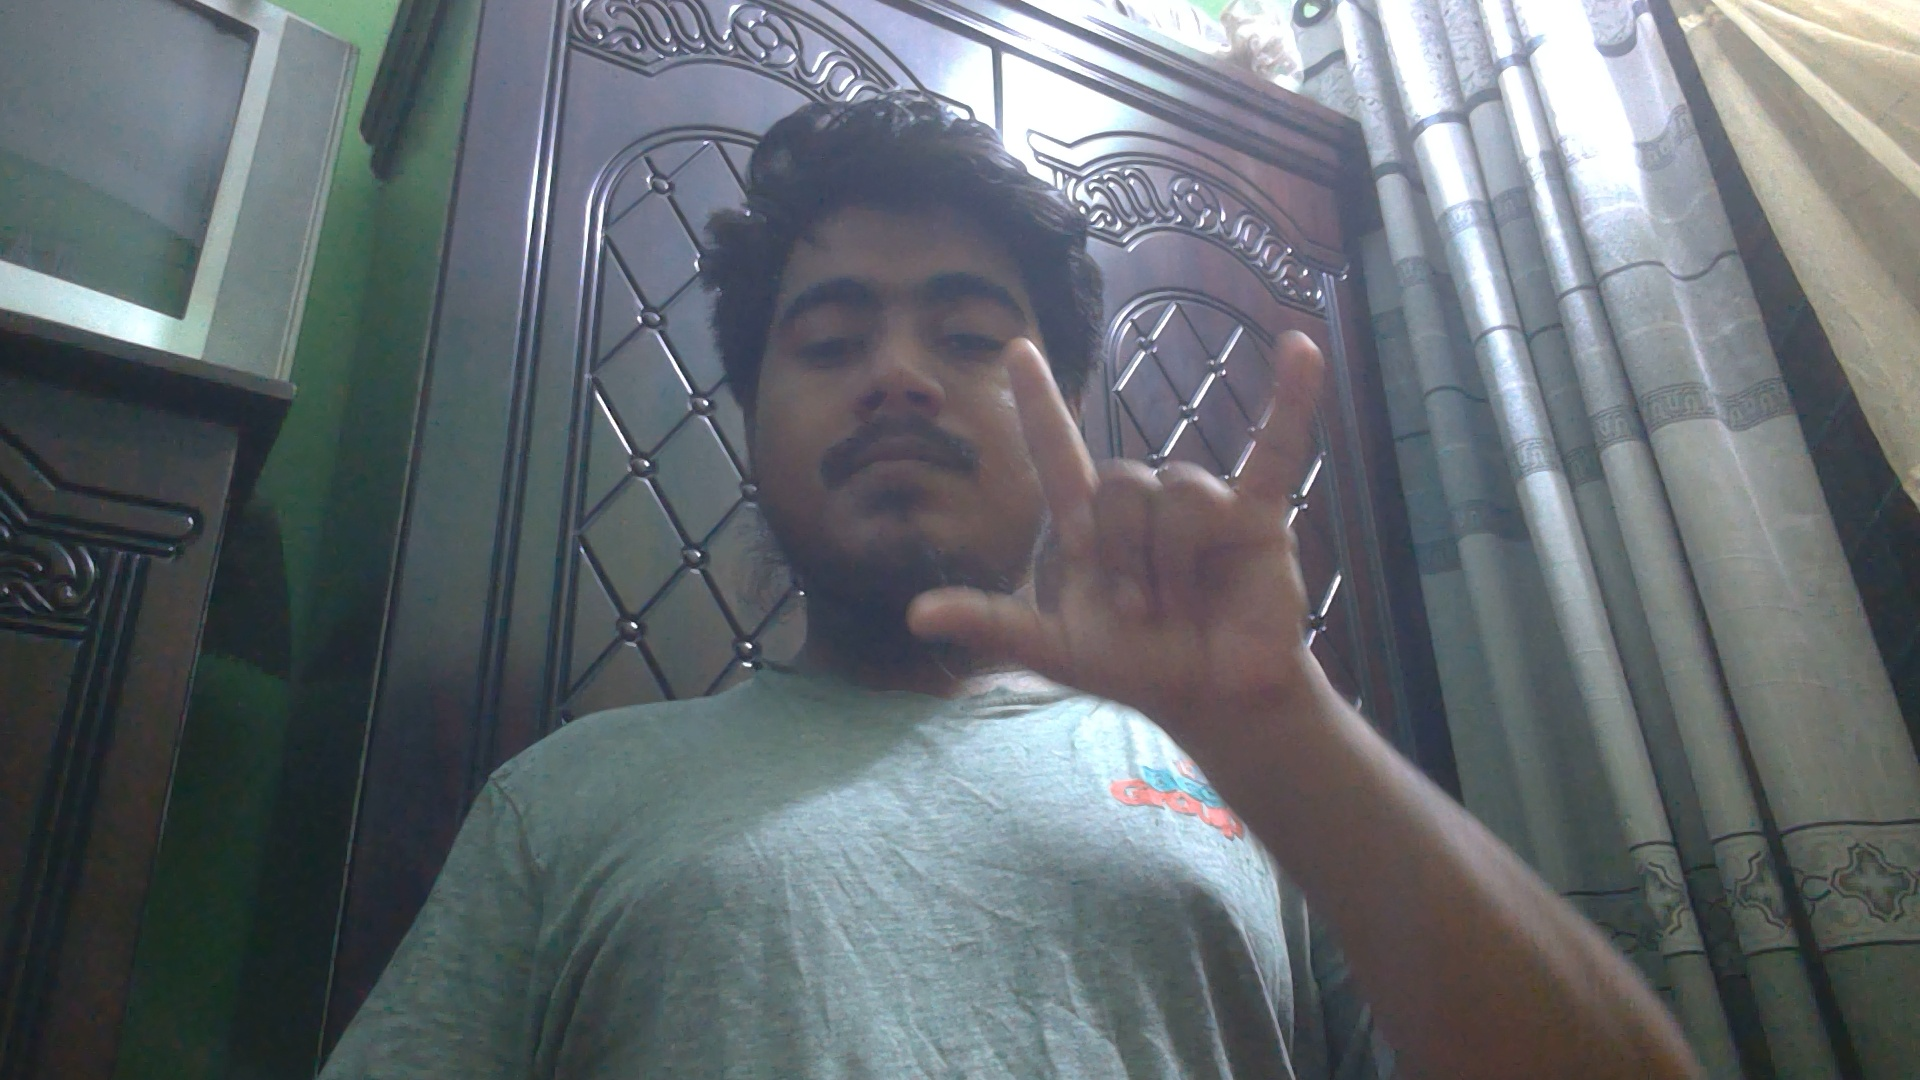Iloveyou: (899, 322, 1338, 709)
